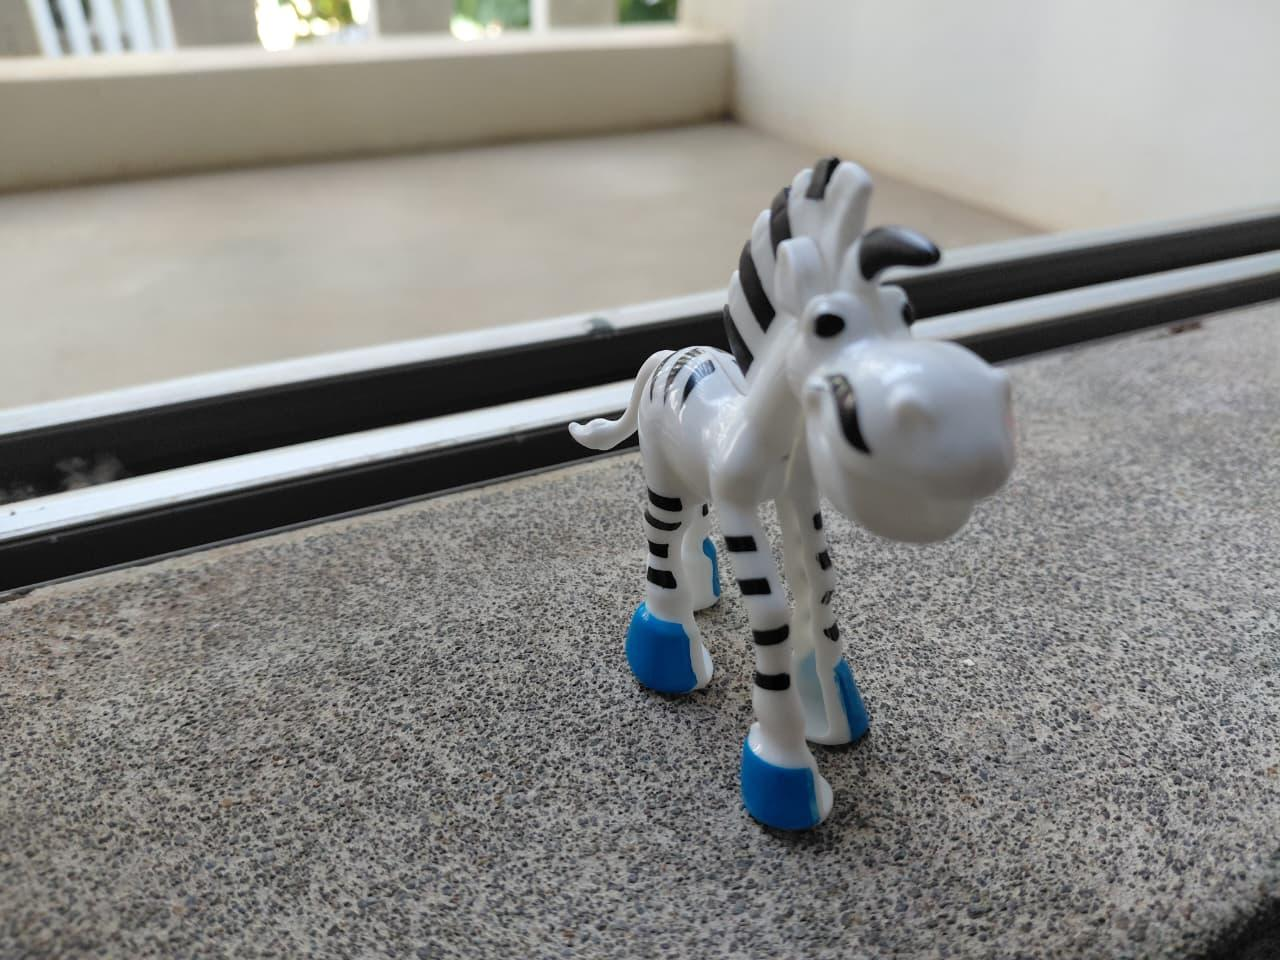zebra: (524, 150, 1029, 852)
